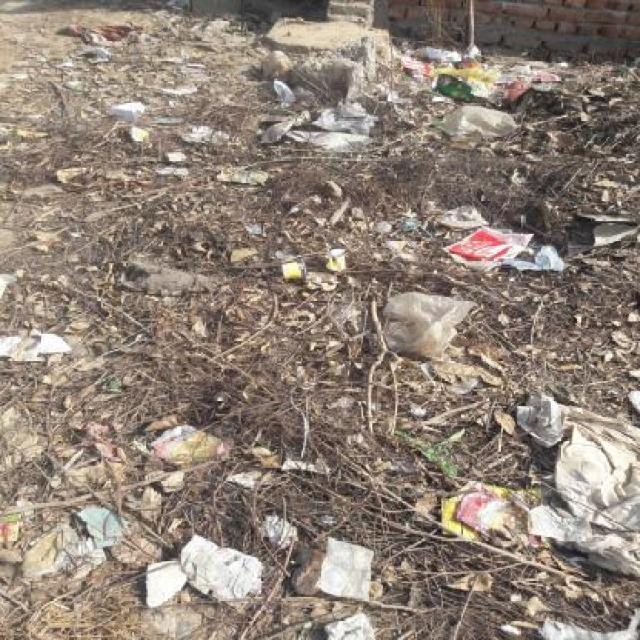garbage: (75, 428, 472, 631), (110, 102, 626, 250), (445, 52, 635, 294), (348, 285, 519, 424), (508, 403, 618, 617), (76, 14, 210, 96)
